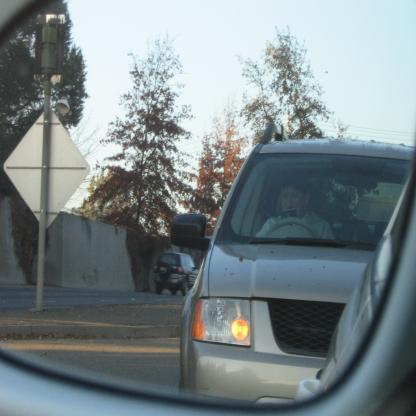Car: (1, 1, 416, 416), (170, 123, 416, 406), (153, 254, 200, 298)
